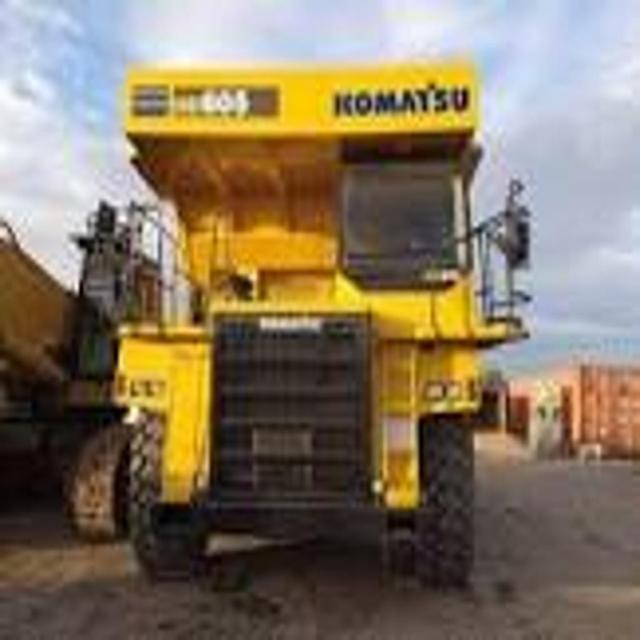dump_truck: (112, 47, 538, 592)
